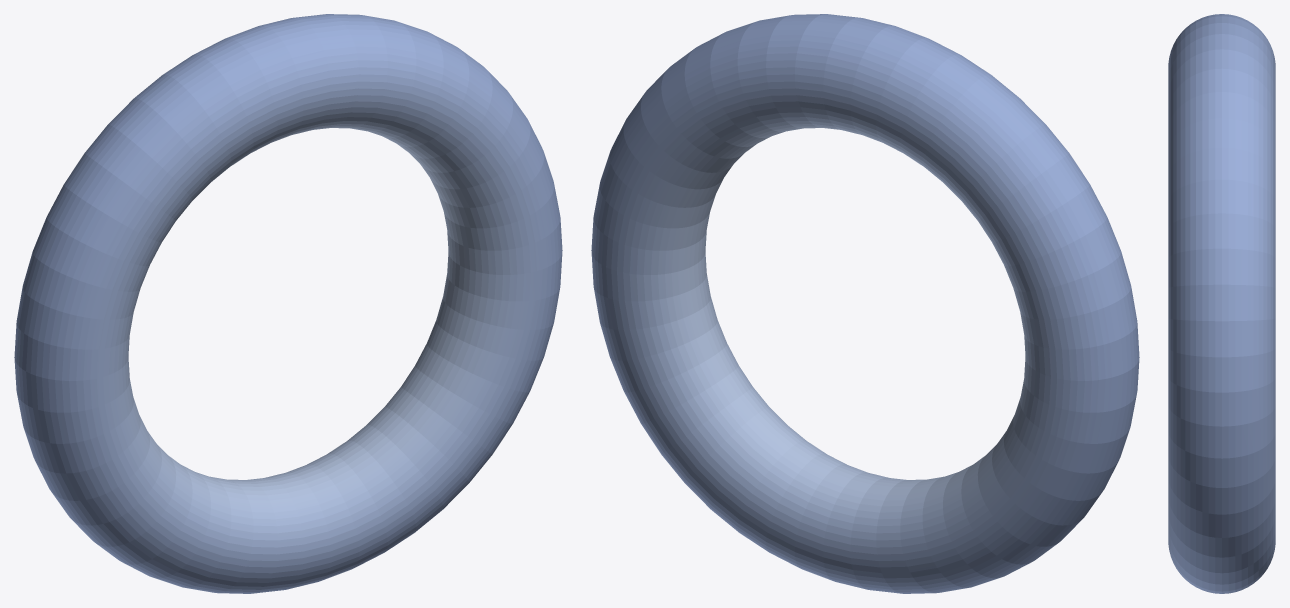
3 renders of one model, left to right at view 1: azimuth 30°, elevation 25°; view 2: azimuth 150°, elevation 25°; view 3: azimuth 270°, elevation 25°, orthographic. The views are drawn at different scales.
Visible parts, largest first — view 1: world; view 2: world; view 3: world.
Boxes of the visible parts, left/top/right/bottom form: world: left=14, top=14, right=562, bottom=593; world: left=591, top=14, right=1139, bottom=593; world: left=1168, top=14, right=1275, bottom=593.
Size of the model in its own units: 23.73 by 23.69 by 4.39.
